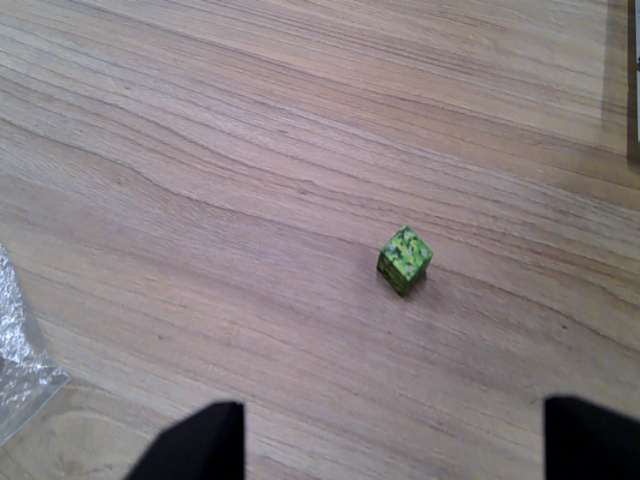grass: (374, 223, 433, 300)
